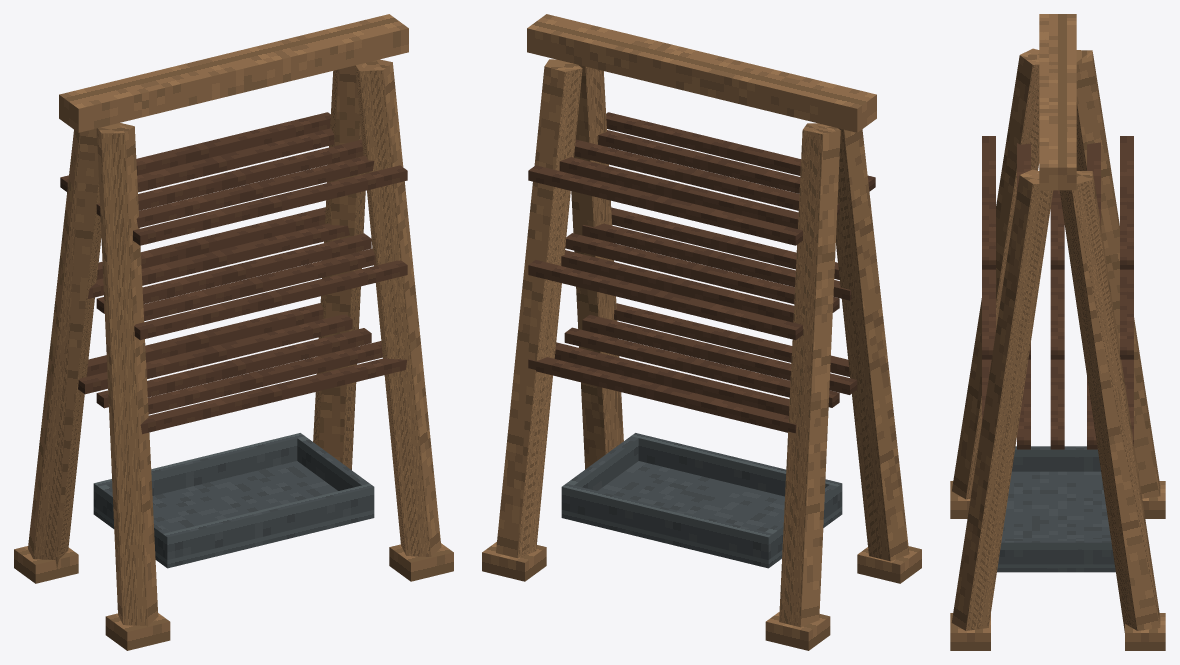
File: f_smoking_rack.glb
3 views of the same model, side by side, from view 1: azimuth 30°, elevation 25°; view 2: azimuth 150°, elevation 25°; view 3: azimuth 270°, elevation 25° (orthographic). The views are drawn at different scales.
Visible parts, largest first — view 1: block_A-frame-trestle-1 (×4), block_smoker-tray-lath (×15), block_crossbeam, block_charcoal-pan-base, block_charcoal-pan-end-1, block_trestle-foot (×3), block_charcoal-pan-end--1, block_charcoal-pan-side-1, block_charcoal-pan-side--1; view 2: block_A-frame-trestle-1 (×4), block_smoker-tray-lath (×15), block_crossbeam, block_charcoal-pan-base, block_charcoal-pan-end--1, block_trestle-foot (×3), block_charcoal-pan-end-1, block_charcoal-pan-side-1, block_charcoal-pan-side--1; view 3: block_A-frame-trestle-1 (×4), block_smoker-tray-lath (×13), block_charcoal-pan-base, block_crossbeam, block_trestle-foot (×4), block_charcoal-pan-side-1, block_charcoal-pan-side--1.
Boxes of the visible parts, bbox=[...] form: block_A-frame-trestle-1 (×4): bbox=[28, 59, 441, 626]; block_smoker-tray-lath (×15): bbox=[60, 112, 407, 434]; block_crossbeam: bbox=[59, 14, 408, 132]; block_charcoal-pan-base: bbox=[93, 461, 374, 568]; block_charcoal-pan-end-1: bbox=[163, 483, 374, 559]; block_trestle-foot (×3): bbox=[14, 543, 453, 650]; block_charcoal-pan-end--1: bbox=[93, 433, 304, 508]; block_charcoal-pan-side-1: bbox=[297, 436, 369, 490]; block_charcoal-pan-side--1: bbox=[98, 485, 170, 556]; block_A-frame-trestle-1 (×4): bbox=[496, 59, 909, 627]; block_smoker-tray-lath (×15): bbox=[528, 112, 875, 433]; block_crossbeam: bbox=[527, 14, 876, 132]; block_charcoal-pan-base: bbox=[561, 461, 842, 568]; block_charcoal-pan-end--1: bbox=[561, 483, 772, 559]; block_trestle-foot (×3): bbox=[482, 542, 921, 650]; block_charcoal-pan-end-1: bbox=[631, 433, 842, 508]; block_charcoal-pan-side-1: bbox=[566, 436, 638, 490]; block_charcoal-pan-side--1: bbox=[765, 485, 837, 556]; block_A-frame-trestle-1 (×4): bbox=[951, 48, 1160, 632]; block_smoker-tray-lath (×13): bbox=[982, 136, 1133, 449]; block_charcoal-pan-base: bbox=[997, 471, 1115, 572]; block_crossbeam: bbox=[1039, 14, 1076, 190]; block_trestle-foot (×4): bbox=[950, 481, 1165, 650]; block_charcoal-pan-side-1: bbox=[998, 539, 1114, 564]; block_charcoal-pan-side--1: bbox=[1012, 446, 1100, 471].
Size of the model in its own units: 0.878 by 1.29 by 0.521.
Materials: 1 (1 with a texture image).
